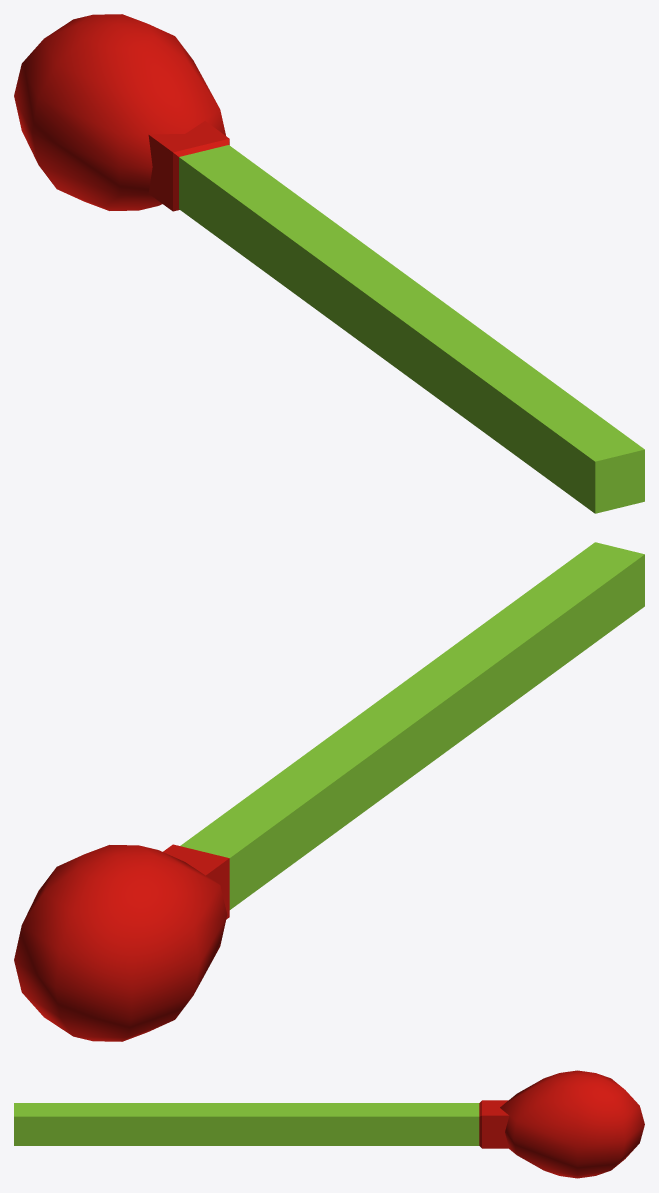
Rendered from Match.fbx.
3 renders of one model, top to bottom at view 1: azimuth 30°, elevation 25°; view 2: azimuth 150°, elevation 25°; view 3: azimuth 270°, elevation 25°, orthographic. The views are drawn at different scales.
Parts seen in each view (by area): view 1: Match; view 2: Match; view 3: Match.
Boxes of the visible parts, x1,y1,x2,y2 form: Match: [14, 14, 644, 513]; Match: [14, 542, 644, 1041]; Match: [14, 1070, 644, 1178].
Bounding box in the file's own units: 15.81 × 92.22 × 15.81.
